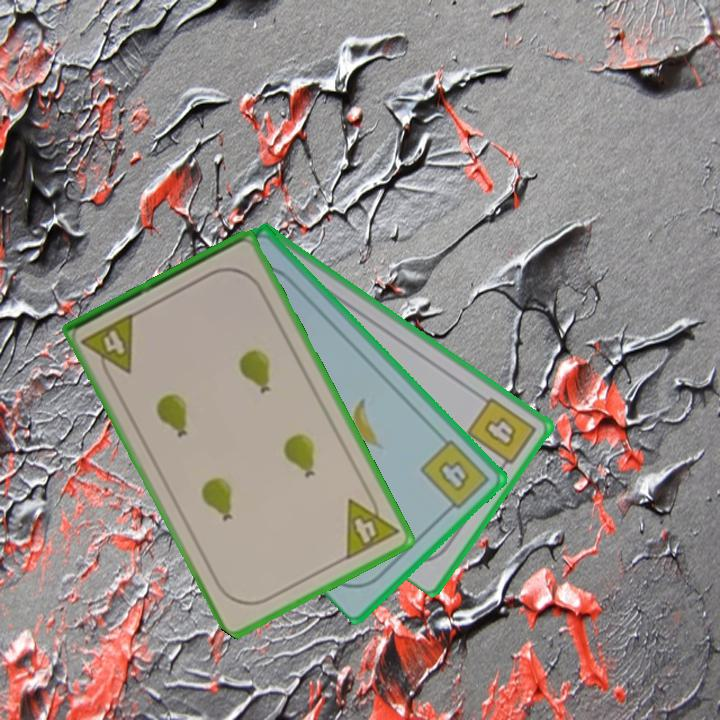4b: (416, 435, 493, 517), (463, 393, 540, 474)
4p: (342, 486, 402, 563), (78, 309, 138, 384)
